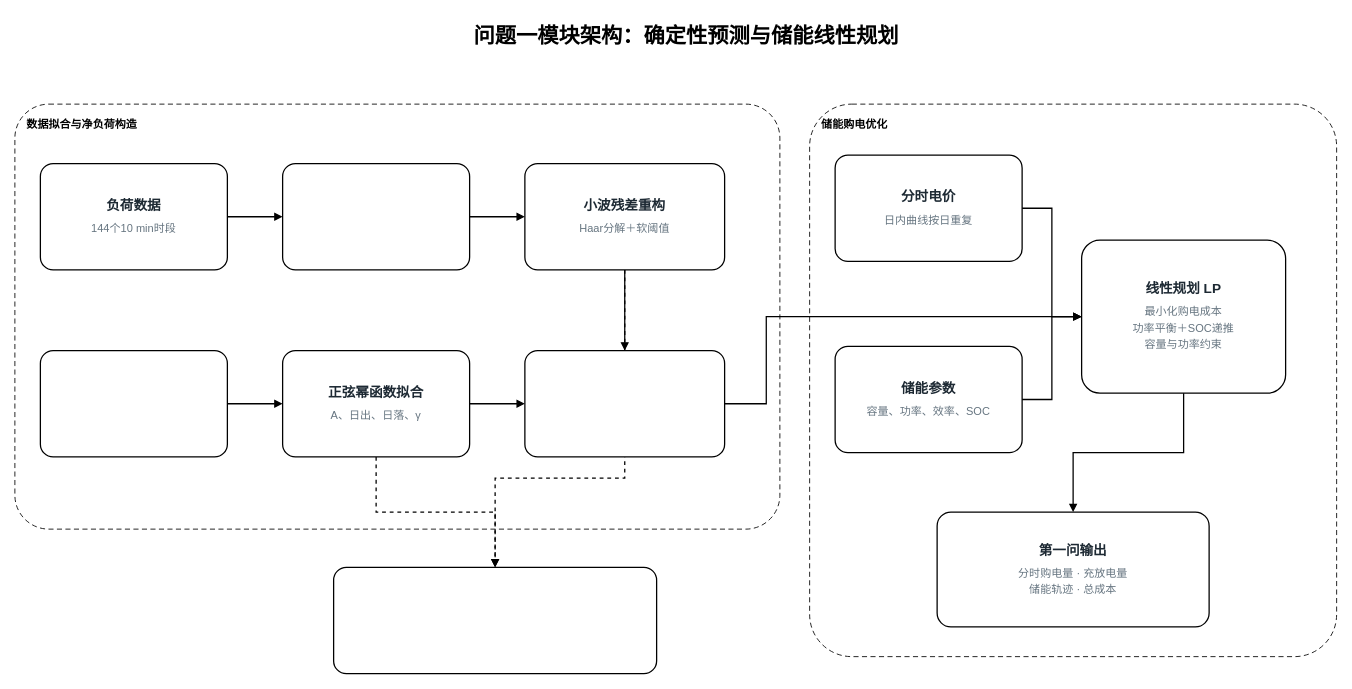
Image size: 1352x689. Some labels were removed from this diagram. The shapes that lost their labels are listed below. From the top down, each one's centre as x and y in pixels, then its label:
At [376,216]: "傅里叶拟合 提取日周期与谐波".
At [133,403]: "光伏数据 日出至日落出力".
At [624,403]: "净负荷 预测负荷减预测光伏".
At [495,620]: "拟合检验 MAE、RMSE、R²＋曲线对比".
